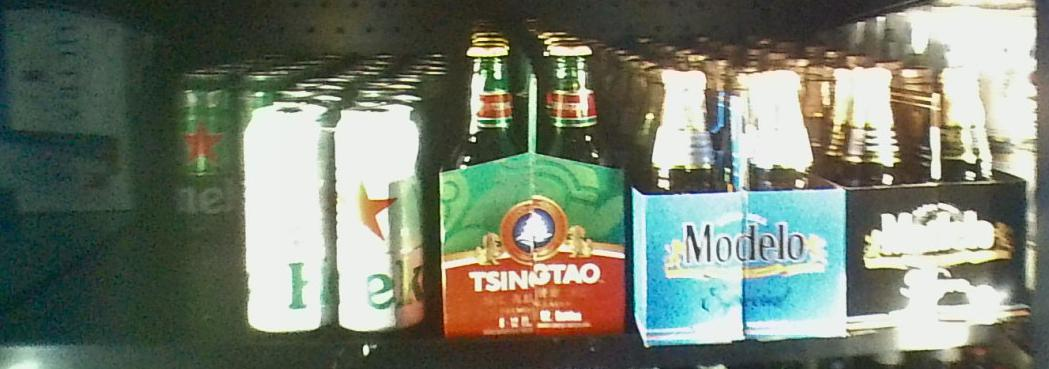bottle: (631, 63, 840, 342), (439, 39, 631, 337), (842, 61, 1025, 327), (243, 105, 430, 332), (163, 65, 245, 225)
